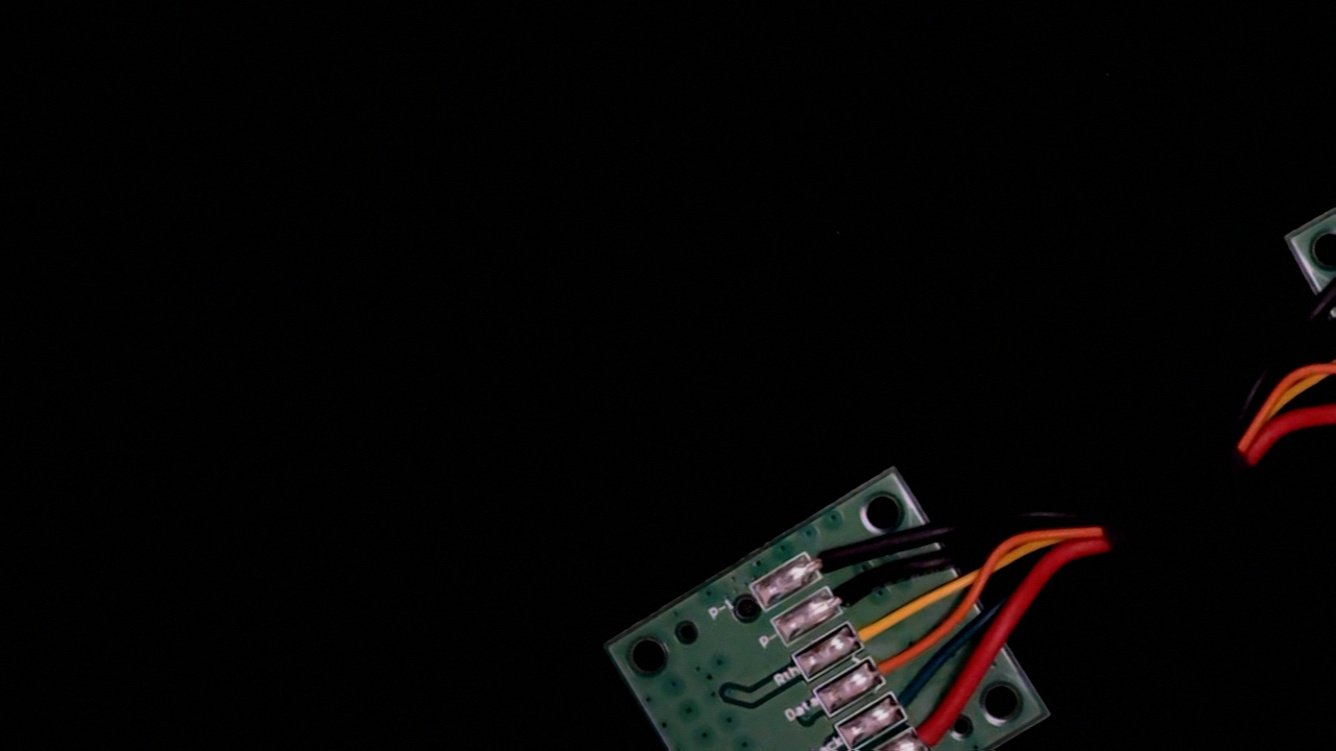Black: (816, 562, 890, 622)
Black1: (793, 528, 863, 587)
Green: (878, 668, 950, 729)
Orange: (859, 631, 934, 693)
Red: (900, 701, 970, 751)
Yellow: (837, 597, 909, 659)
